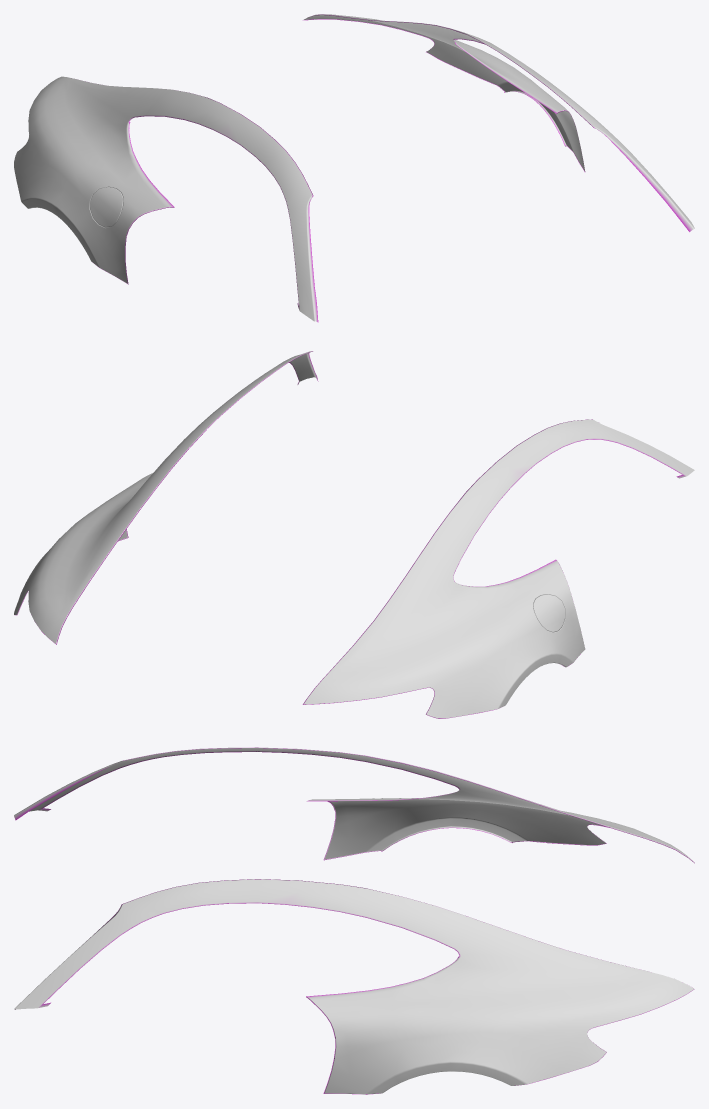
File: Car_MercedesBenz_AMGGT_2015_FendersR_SetGTR.fbx
The picture shows the model from 3 angles, top to bottom: view 1: azimuth 30°, elevation 25°; view 2: azimuth 150°, elevation 25°; view 3: azimuth 270°, elevation 25°; orthographic projection. The views are drawn at different scales.
Visible parts, largest first — view 1: FendersR 6; view 2: FendersR 6; view 3: FendersR 6.
Part boxes in pixels (x1,y1,x2,y2): FendersR 6: [14, 14, 694, 322]; FendersR 6: [14, 351, 694, 718]; FendersR 6: [14, 747, 694, 1094].
Bounding box in the file's own units: 2 × 0.6217 × 2.34.
